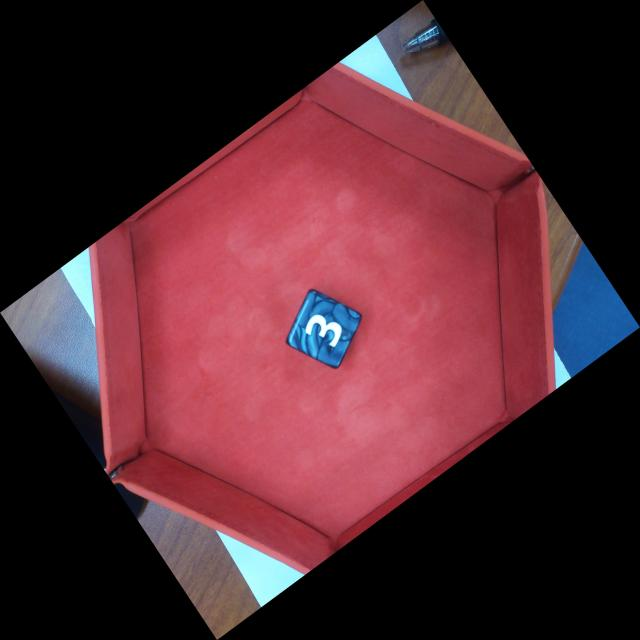dice: (287, 290, 362, 369)
